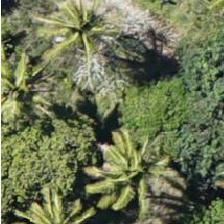Kelapa_Sawit: (84, 130, 174, 220), (46, 0, 136, 83), (17, 176, 107, 224)
